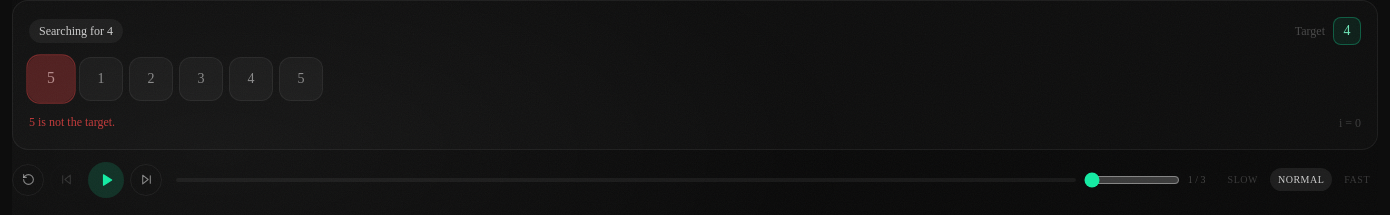
Test: AnimationScriptRenderer › restart resets to the first step
Click the button named "Next step" at [146, 180], box [130, 164, 162, 196]
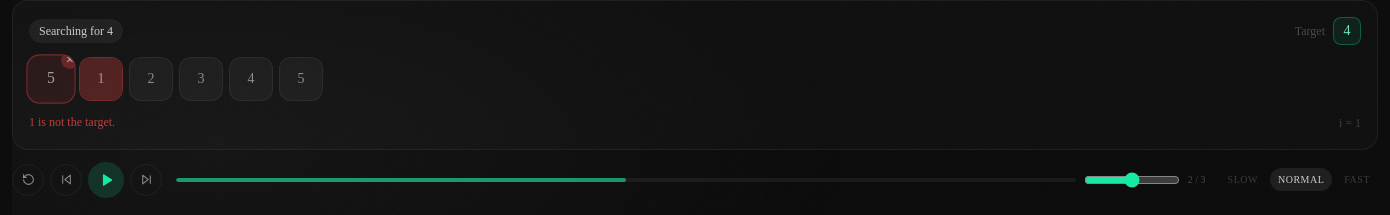
Click the button named "Next step" at [146, 180], box [130, 164, 162, 196]
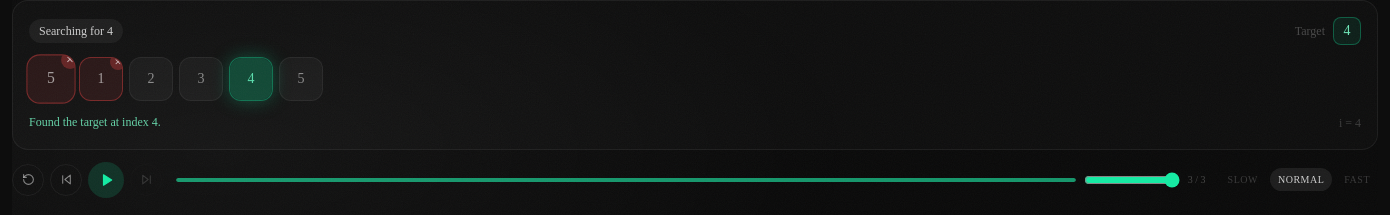
Click the button named "Restart animation" at [28, 180], box [12, 164, 44, 196]
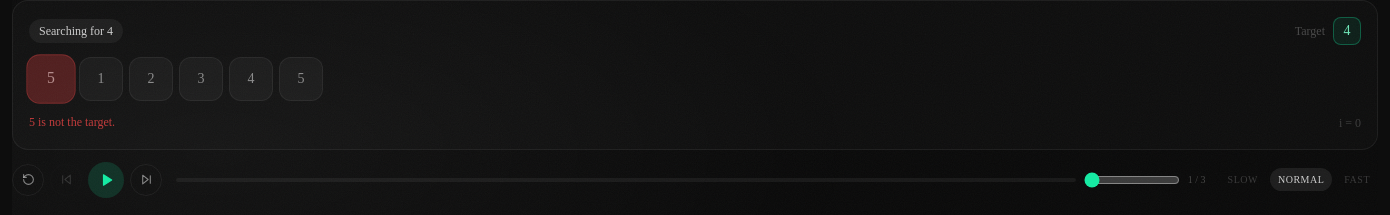
Check: the text "1 / 3" is shown, box [1188, 172, 1206, 187]
Check: the text "5 is not the target." is shown, box [29, 115, 115, 129]
